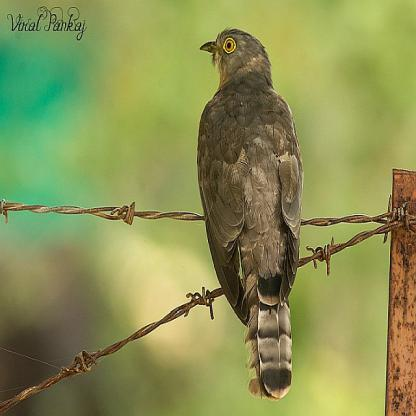Burung: (197, 27, 302, 400)
